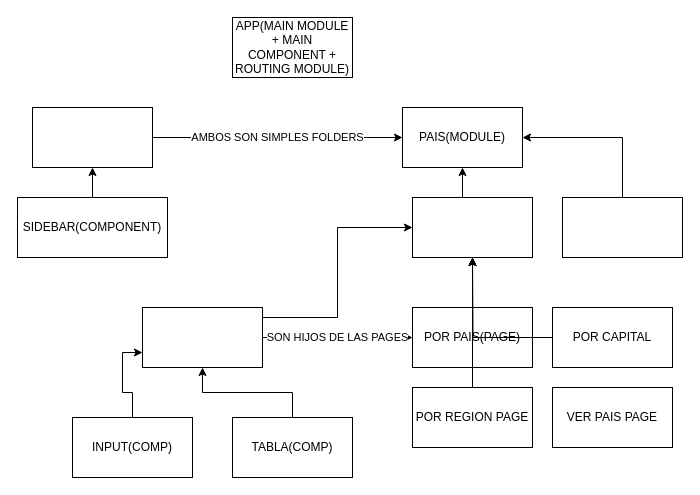
Image size: 700x495. Some labels were removed from this diagram. The centre of each missing label's shape, as x and y in pixels:
"COMPONENTS" goes at (x=202, y=337).
"PAGES" goes at (x=472, y=227).
"SERVICES" goes at (x=622, y=227).
"SHARED(MODULE)" goes at (x=92, y=137).
